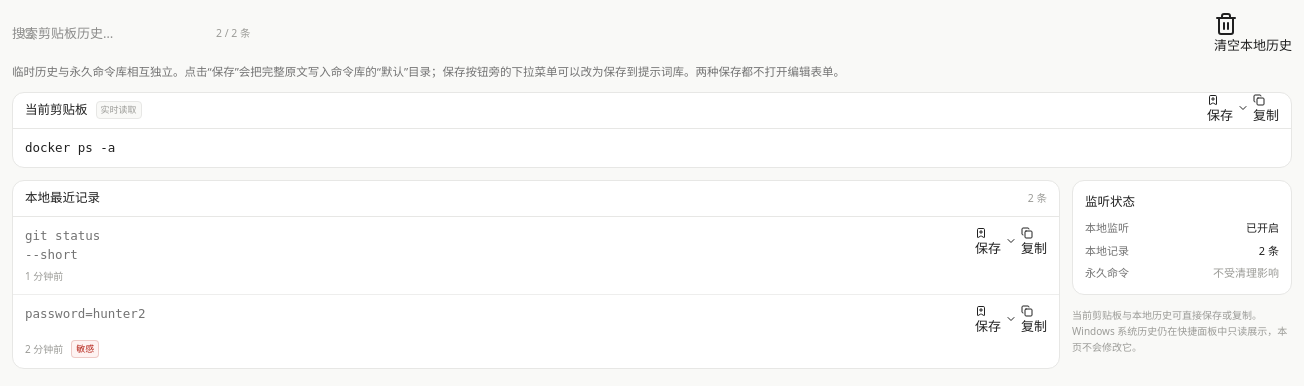
ClipboardPage › filters history and restores it with the clear control
The width and height of the screenshot is (1304, 386).
Check: the text "password=hunter2" is shown, box [25,306,145,321]
Type "git" into the search field labelled "搜索剪贴板历史" at coordinates (110, 34), box [12,24,208,44]
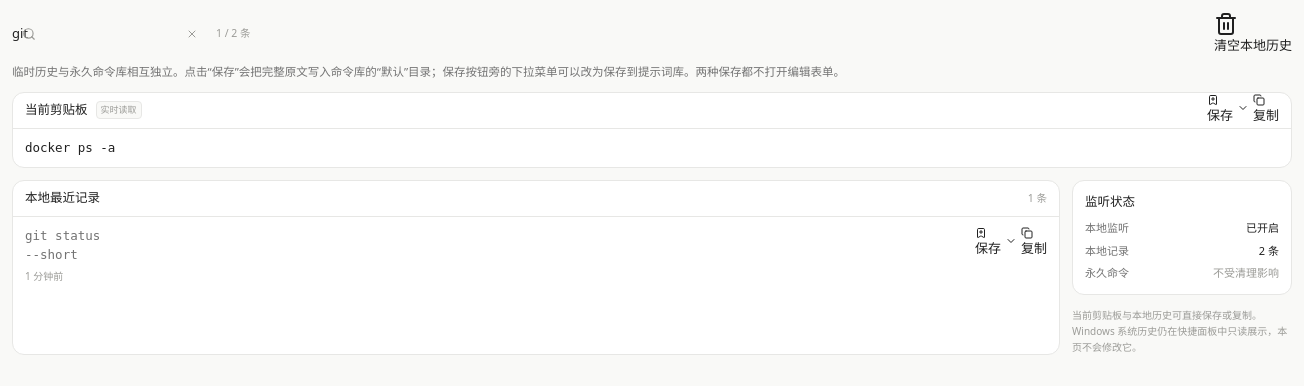
Check: the text "git status --short" is shown, box [25,228,100,262]
Check: the text "password=hunter2" is gone
Click the button named "清空搜索" at coordinates (192, 34), box [182,24,202,44]
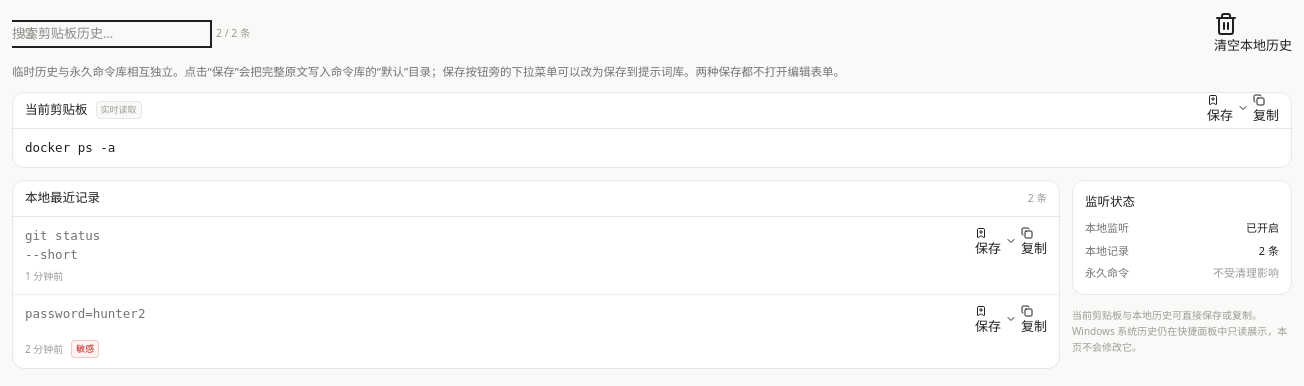
Check: the text "password=hunter2" is shown, box [25,306,145,321]
